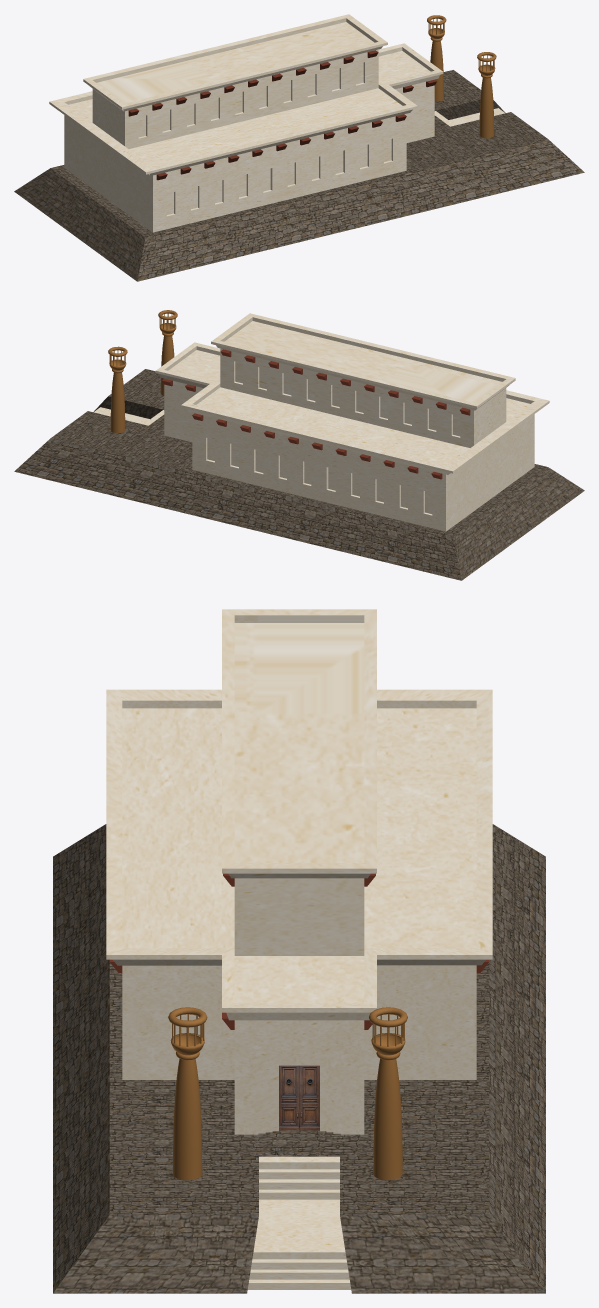
Rendered from Templo de melkart (1).fbx.
3 views of the same model, one above another, from view 1: azimuth 30°, elevation 25°; view 2: azimuth 150°, elevation 25°; view 3: azimuth 270°, elevation 25° (orthographic). The views are drawn at different scales.
Parts seen in each view (by area): view 1: Temple, Base, Cylinder, Wood support 3, Wood support 2, Cylinder.002; view 2: Temple, Base, Cylinder.002, Wood support 2, Wood support 3, Cylinder; view 3: Temple, Base, Stair 1, Stair 1.001, Cylinder.002, Cylinder.
Boxes of the visible parts, box(x1,y1,x2,y2) form: Temple: box(49, 14, 443, 232); Base: box(14, 70, 584, 281); Cylinder: box(479, 77, 494, 138); Wood support 3: box(128, 50, 378, 116); Wood support 2: box(156, 114, 406, 180); Cylinder.002: box(430, 41, 443, 101); Temple: box(155, 313, 549, 531); Base: box(14, 369, 584, 580); Cylinder.002: box(110, 372, 125, 433); Wood support 2: box(192, 413, 442, 479); Wood support 3: box(220, 349, 470, 415); Cylinder: box(160, 336, 174, 395); Temple: box(106, 609, 492, 1134); Base: box(53, 824, 545, 1293); Stair 1: box(247, 1199, 351, 1289); Stair 1.001: box(259, 1156, 339, 1199); Cylinder.002: box(373, 1058, 402, 1180); Cylinder: box(173, 1058, 202, 1180).
Size of the model in its own units: 30372 by 8874 by 14493.
